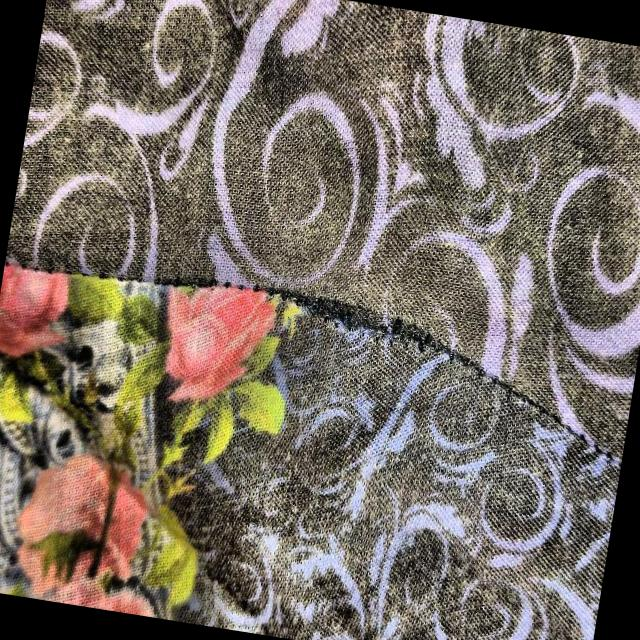gray stitch: (204, 274, 486, 381)
